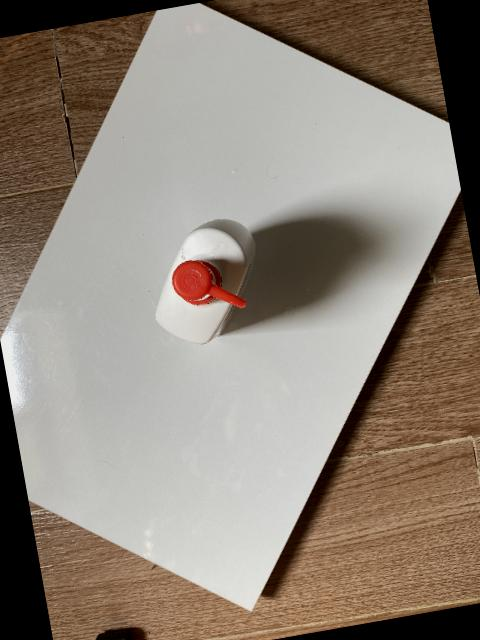life-buoy: (155, 219, 256, 344)
